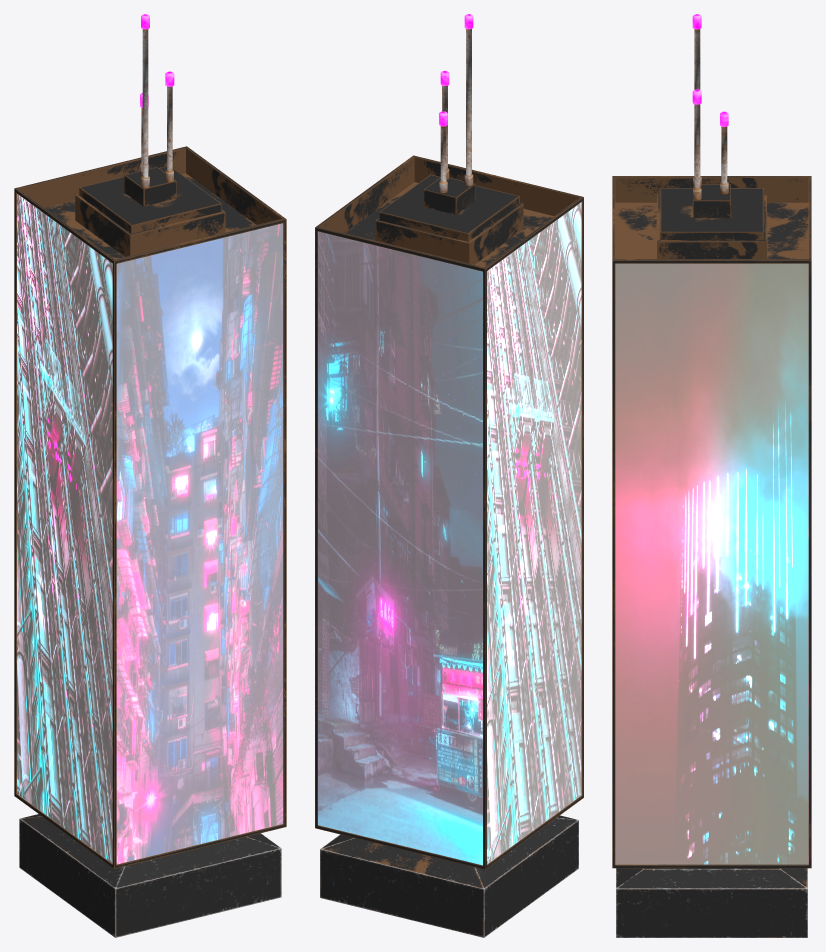
The model's file is SM_TowerB1.fbx.
The picture shows the model from 3 angles, left to right: view 1: azimuth 30°, elevation 25°; view 2: azimuth 150°, elevation 25°; view 3: azimuth 270°, elevation 25°; orthographic projection.
Parts seen in each view (by area): view 1: SM_TowerB1_LOD0; view 2: SM_TowerB1_LOD0; view 3: SM_TowerB1_LOD0.
Boxes of the visible parts, bbox=[...] form: SM_TowerB1_LOD0: bbox=[14, 14, 286, 937]; SM_TowerB1_LOD0: bbox=[315, 14, 583, 937]; SM_TowerB1_LOD0: bbox=[612, 14, 811, 937].
Size of the model in its own units: 316 by 316 by 1532.
Materials: 4 (2 with a texture image).
